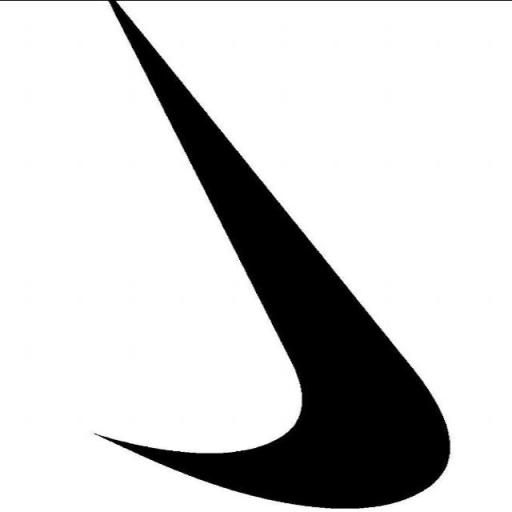Nike: (95, 0, 454, 507)
